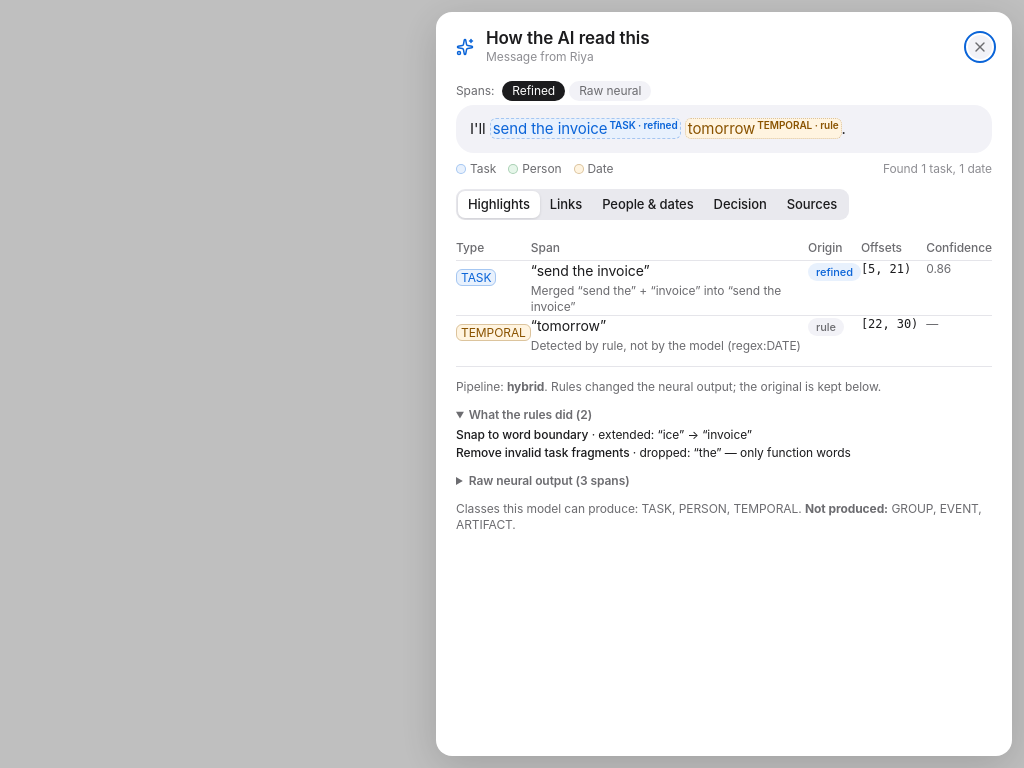
Test: Inspector separates raw neural, refined and rule output › shows the pipeline configuration and the span-refinement provenance
The image size is (1024, 768).
Click the tab "Sources" at (812, 205), box [777,191,847,218]
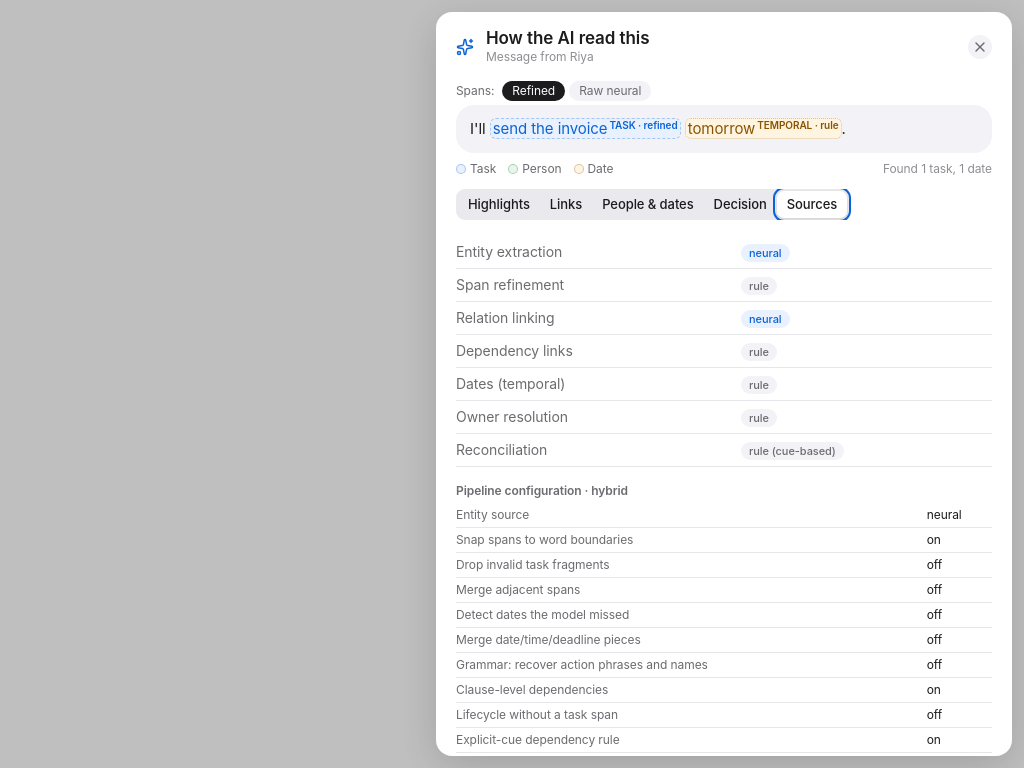
Expected: the text "Span refinement" is shown, [456,269,741,302]
Expected: the cell "on" in the row of "Snap spans to word boundaries" is shown, [927,532,941,547]
Expected: the cell "off" in the row of "Lifecycle without a task span" is shown, [927,707,942,722]
